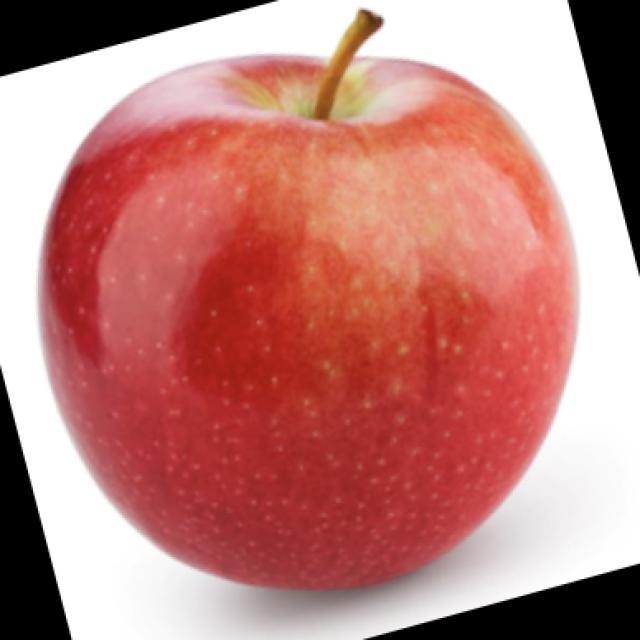Apple: (36, 7, 580, 591)
